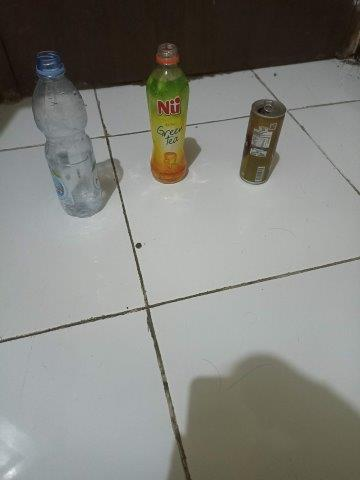botolplastik: (32, 50, 103, 218), (146, 42, 189, 184)
kaleng: (240, 99, 287, 185)
